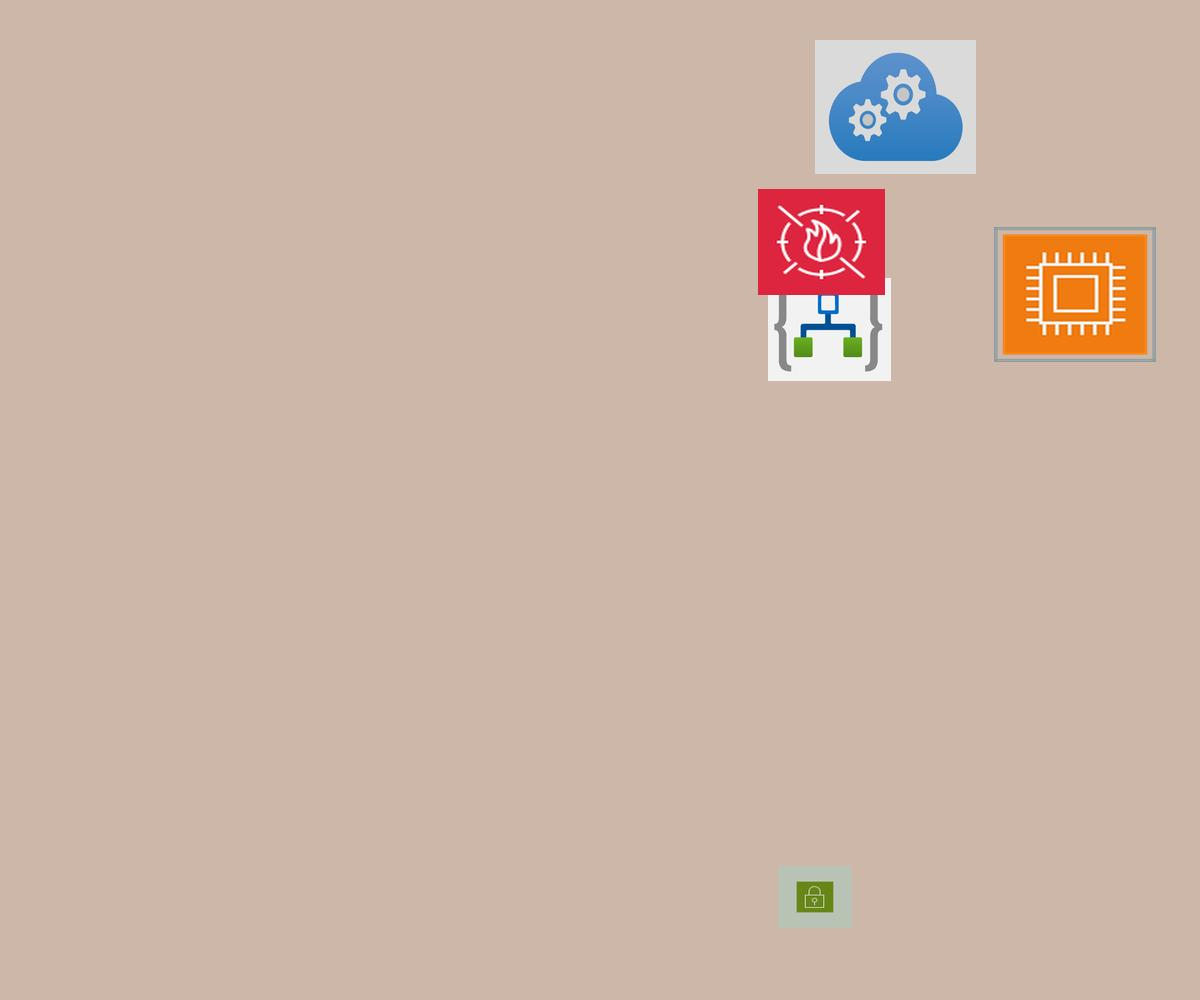AWS-Category_Compute: (994, 227, 1156, 362)
AWS-Public-subnet: (778, 866, 852, 928)
AWS-WAF: (758, 189, 885, 295)
Azure_cloud_services: (815, 40, 976, 174)
Azure_integration-204-Logic-Apps: (768, 278, 891, 381)
